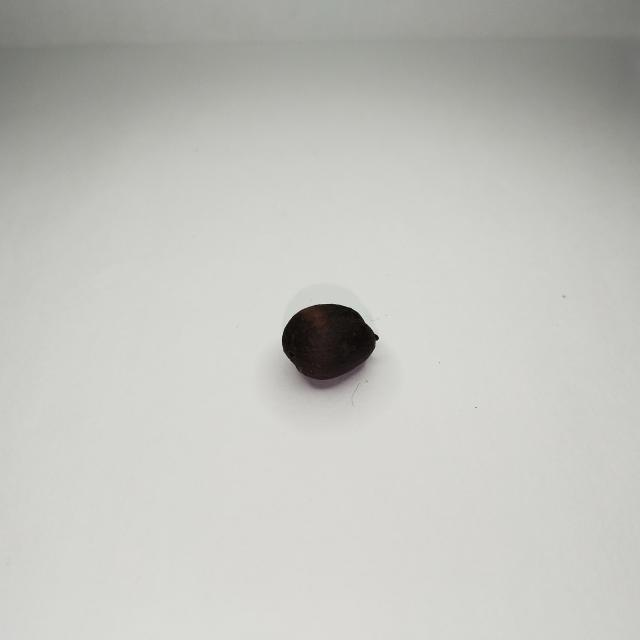Danado: (282, 302, 377, 381)
